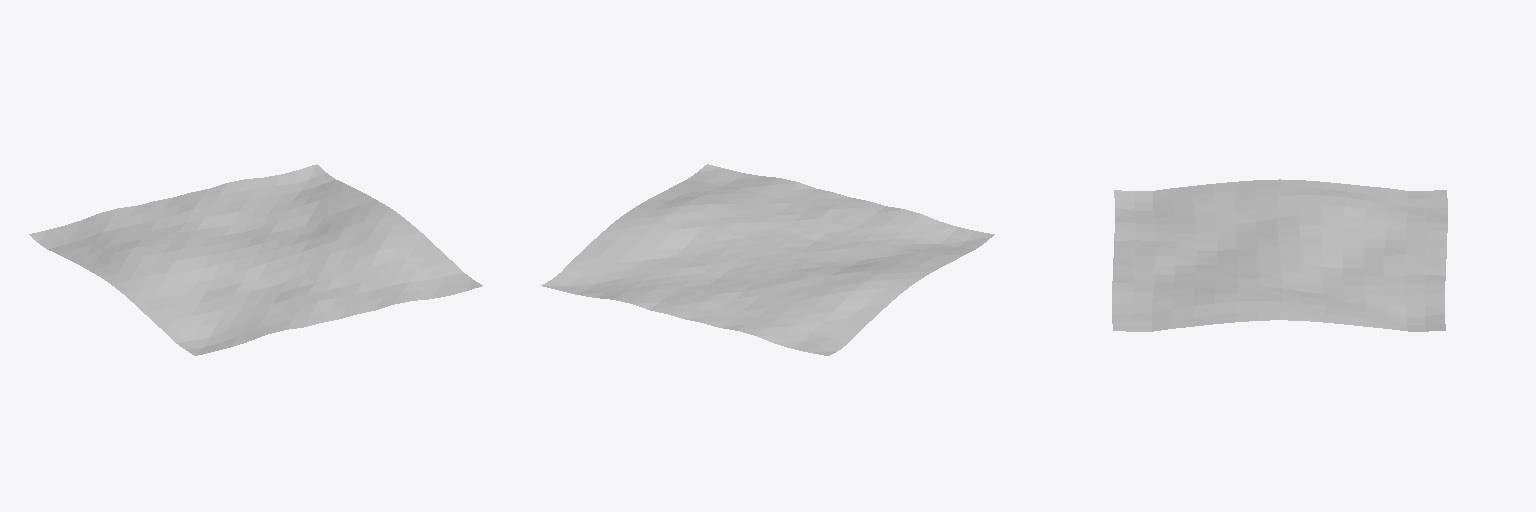
File: water_000004.obj
3 views of the same model, side by side, from view 1: azimuth 30°, elevation 25°; view 2: azimuth 150°, elevation 25°; view 3: azimuth 270°, elevation 25° (orthographic).
Parts seen in each view (by area): view 1: Plan.003_Plan.001; view 2: Plan.003_Plan.001; view 3: Plan.003_Plan.001.
Part boxes in pixels (bbox=[...]): Plan.003_Plan.001: bbox=[29, 164, 482, 355]; Plan.003_Plan.001: bbox=[541, 164, 994, 355]; Plan.003_Plan.001: bbox=[1112, 179, 1447, 331].
Size of the model in its own units: 60512 by 3175 by 61015.